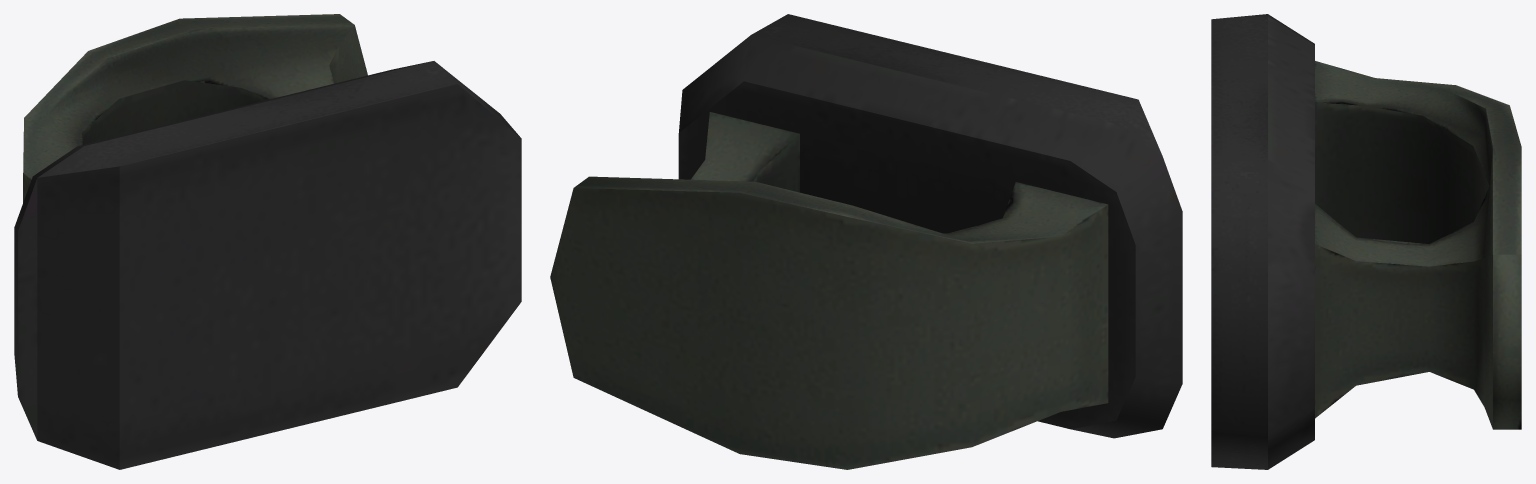
Rendered from t6_attach_pistol_fastmag_world_LOD0.obj.
3 renders of one model, left to right at view 1: azimuth 30°, elevation 25°; view 2: azimuth 150°, elevation 25°; view 3: azimuth 270°, elevation 25°, orthographic. The views are drawn at different scales.
Visible parts, largest first — view 1: mtl_t6_attach_fastmag; view 2: mtl_t6_attach_fastmag; view 3: mtl_t6_attach_fastmag.
Part boxes in pixels (box(x1,y1,x2,y2)): mtl_t6_attach_fastmag: box(14, 14, 521, 469); mtl_t6_attach_fastmag: box(550, 14, 1182, 469); mtl_t6_attach_fastmag: box(1211, 14, 1521, 469).
Bounding box in the file's own units: 6.84 × 4.11 × 3.99.
